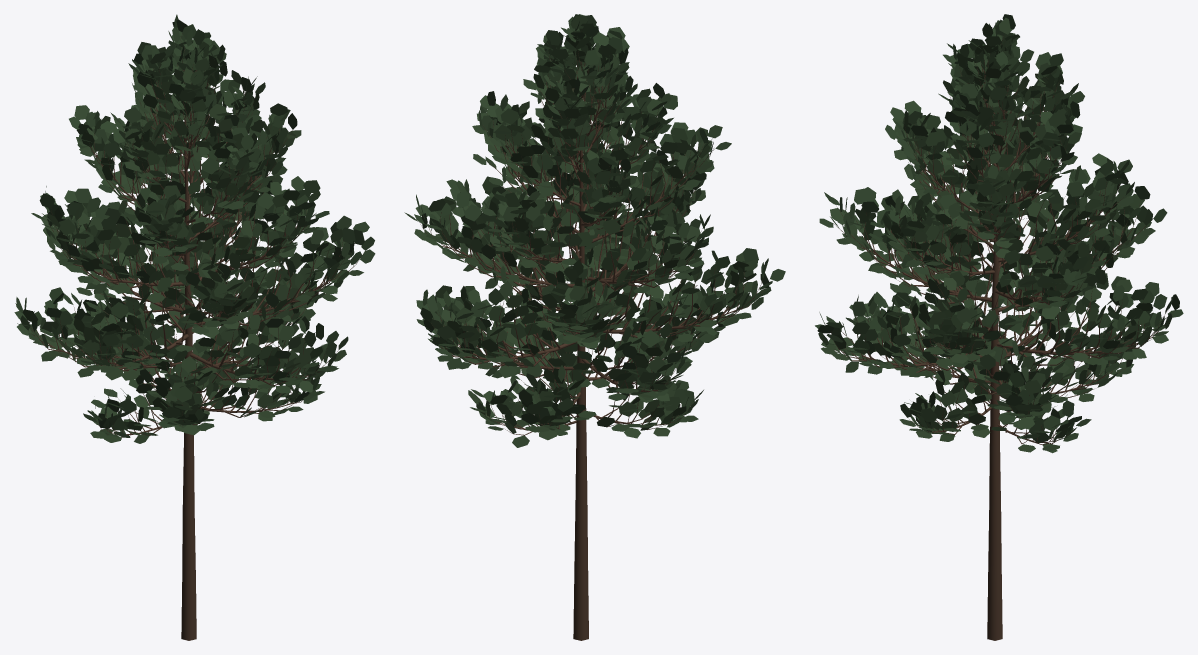
Rendered from Tree_10.fbx.
The picture shows the model from 3 angles, left to right: view 1: azimuth 30°, elevation 25°; view 2: azimuth 150°, elevation 25°; view 3: azimuth 270°, elevation 25°; orthographic projection.
Visible parts, largest first — view 1: leaves_10, Tree_10; view 2: leaves_10, Tree_10; view 3: leaves_10, Tree_10.
Part boxes in pixels (<box>): leaves_10: <box>14,14,375,443</box>; Tree_10: <box>30,33,360,640</box>; leaves_10: <box>404,14,785,447</box>; Tree_10: <box>419,29,764,640</box>; leaves_10: <box>815,14,1183,453</box>; Tree_10: <box>825,36,1174,640</box>.
Bounding box in the file's own units: 486 × 919 × 496.
